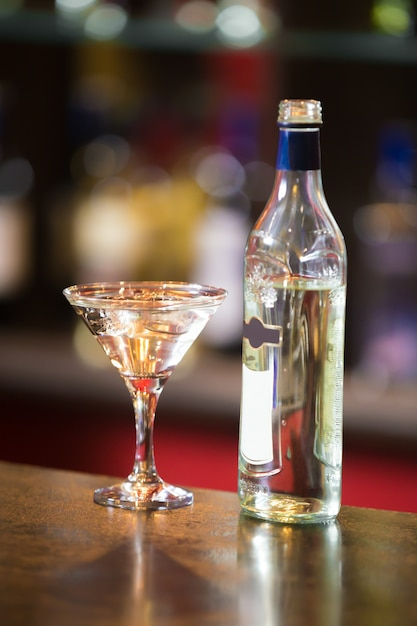alcohol: (232, 97, 353, 525), (61, 281, 232, 515)
